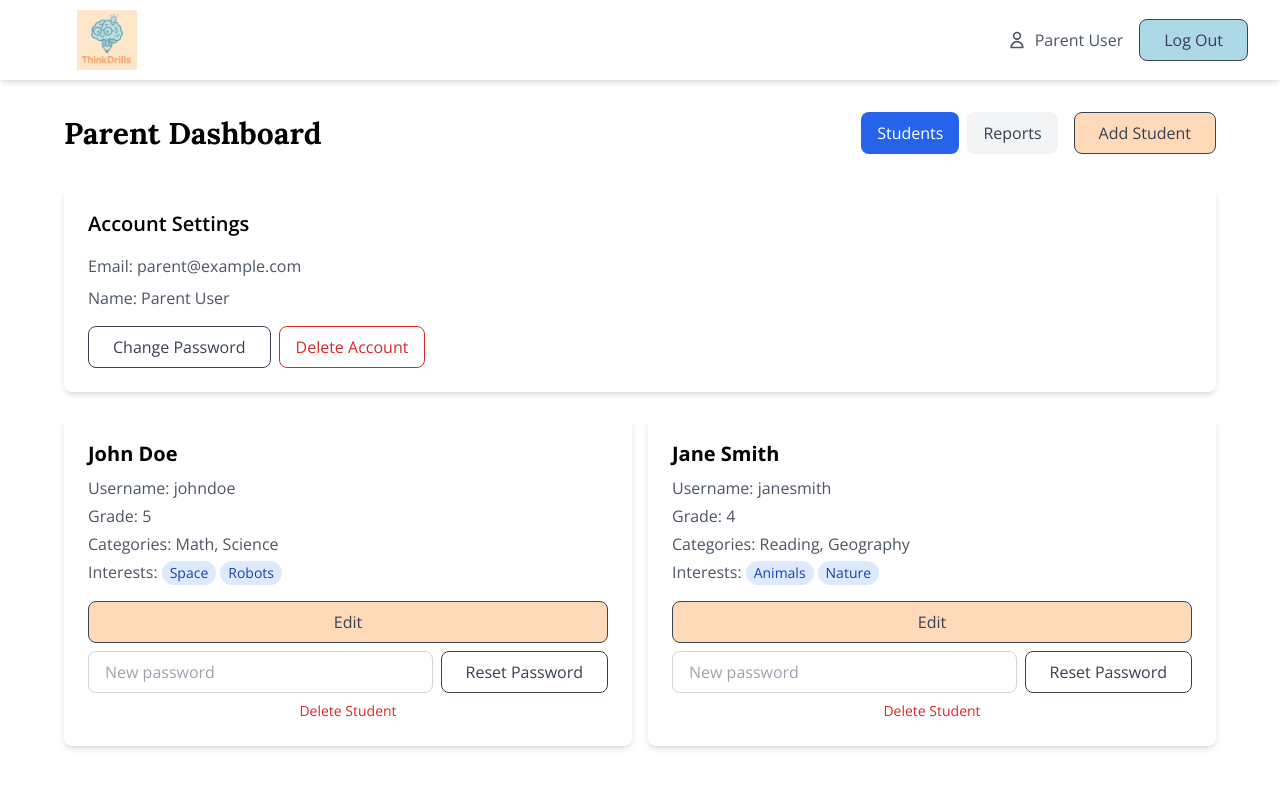
Test: Parent Dashboard › should switch to reports tab
The image size is (1280, 800).
Click the button "Reports" at (1012, 133), box [967, 112, 1058, 154]
(page scrolled)
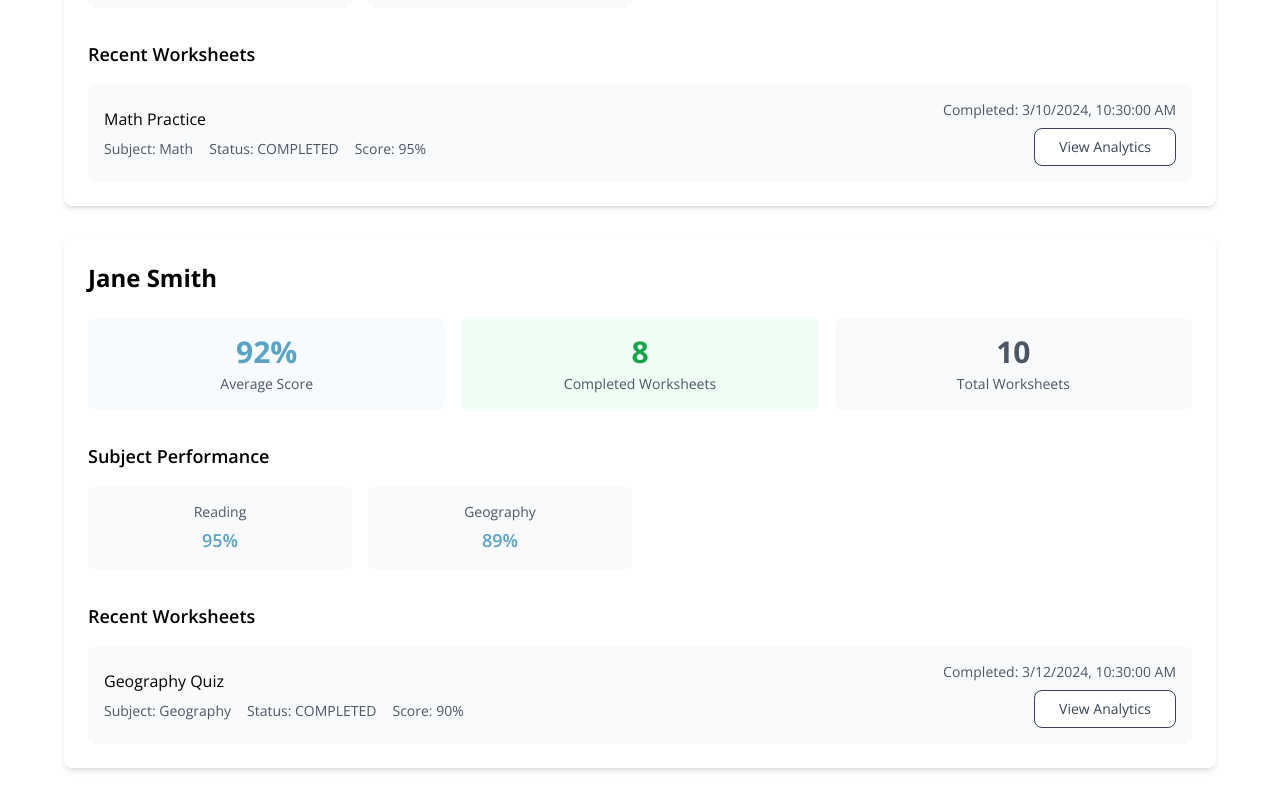
Expected: the heading "Jane Smith" is shown, [88, 261, 217, 294]
Result: the text "92%" is shown at [236, 331, 297, 372]
Result: the text "Geography" is shown at [464, 502, 536, 521]
